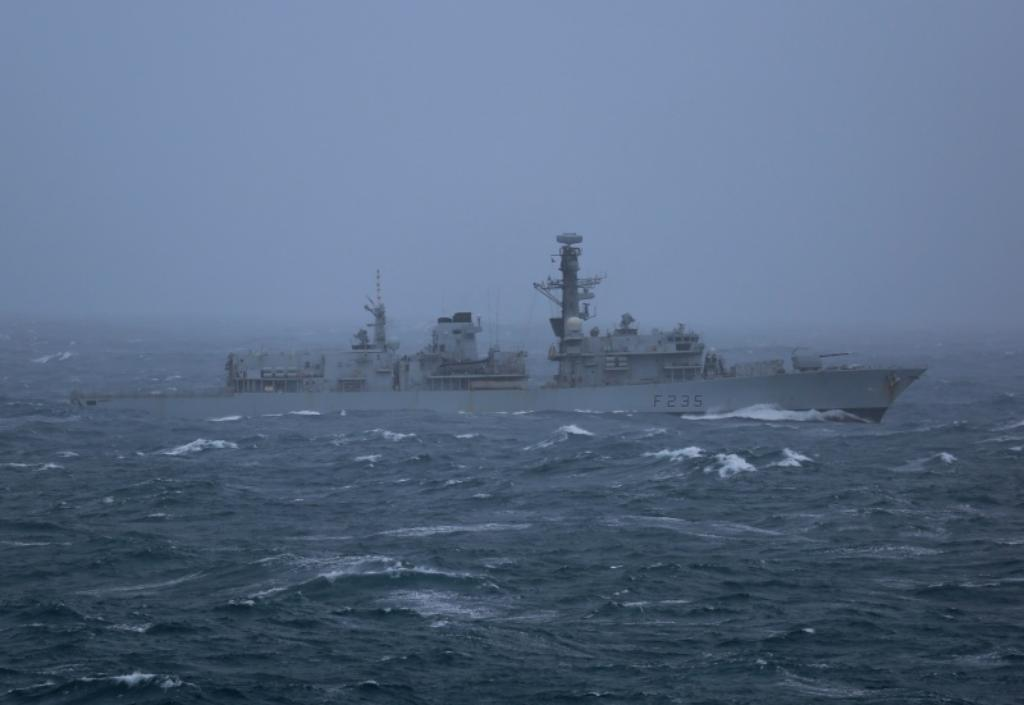Warship: (64, 220, 930, 432)
